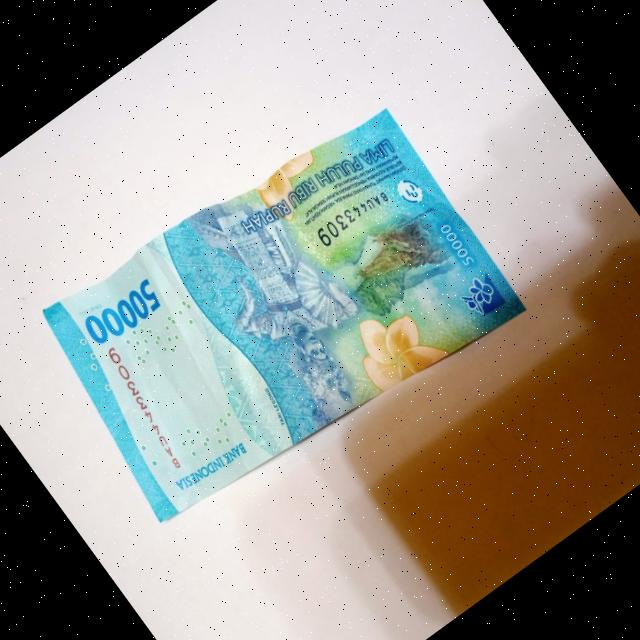50K: (0, 54, 541, 566)
